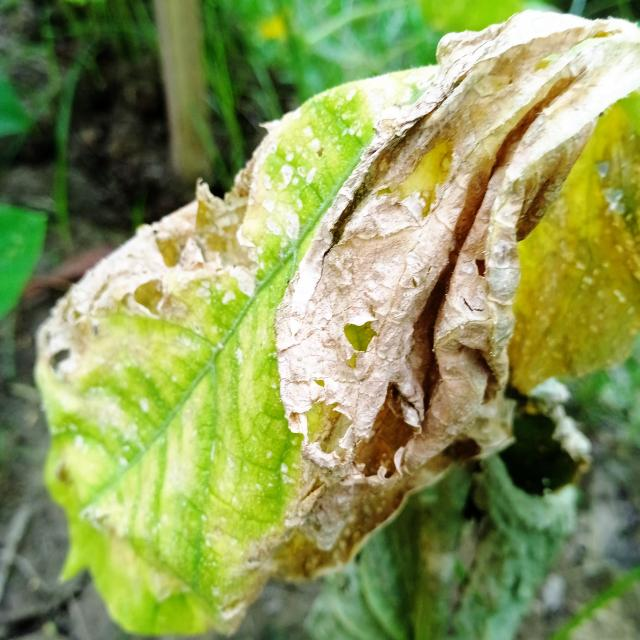Gummy-Stem-Blight: (227, 9, 640, 602)
